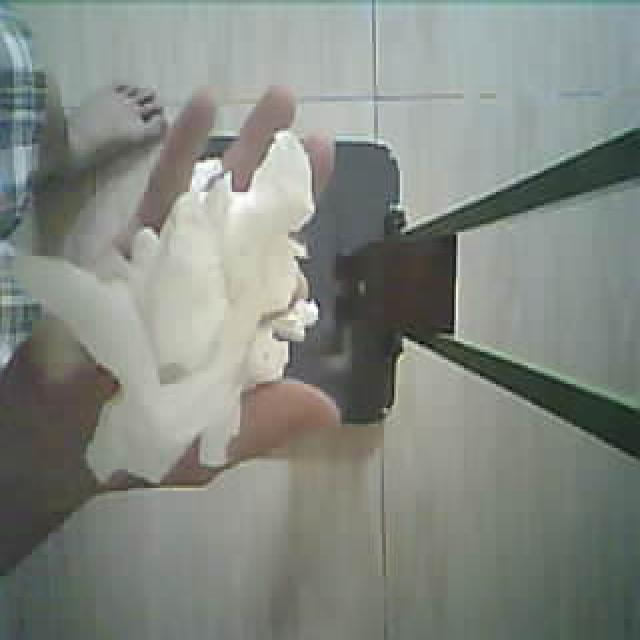Paper: (49, 153, 308, 507)
